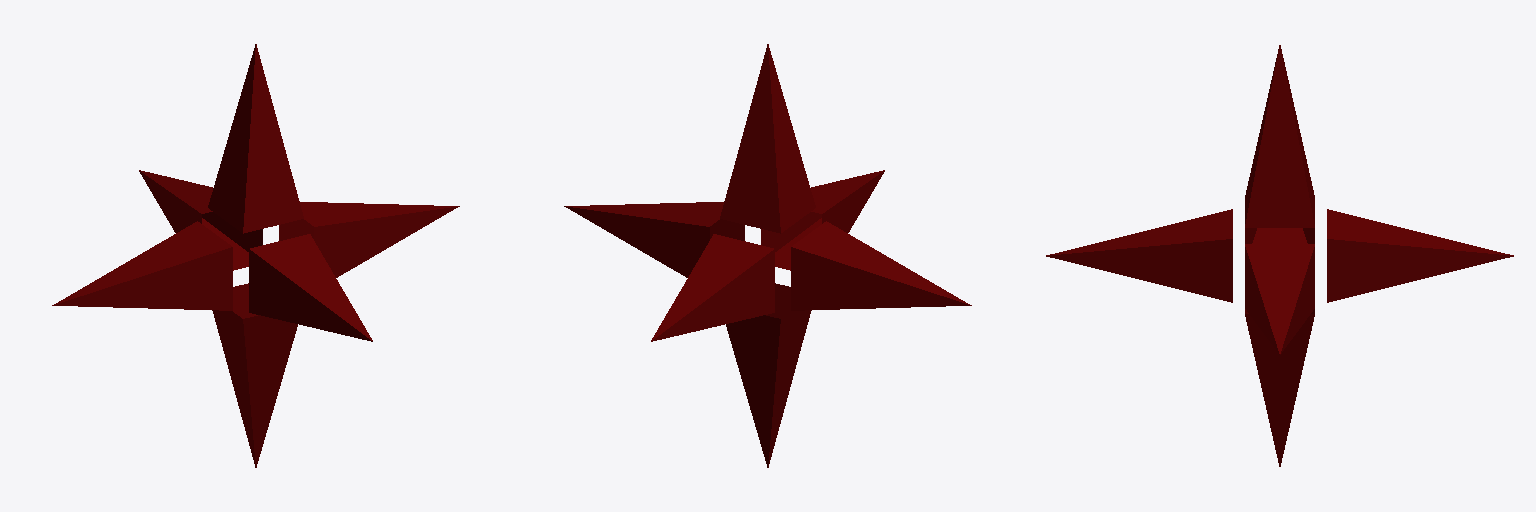
Rendered from spikes.obj.
The picture shows the model from 3 angles: view 1: azimuth 30°, elevation 25°; view 2: azimuth 150°, elevation 25°; view 3: azimuth 270°, elevation 25°; orthographic projection.
Parts seen in each view (by area): view 1: Cube.001; view 2: Cube.001; view 3: Cube.001.
Boxes of the visible parts, x1,y1,x2,y2 form: Cube.001: [52, 44, 459, 467]; Cube.001: [564, 44, 971, 467]; Cube.001: [1046, 45, 1513, 466].
Bounding box in the file's own units: 10 × 10 × 10.